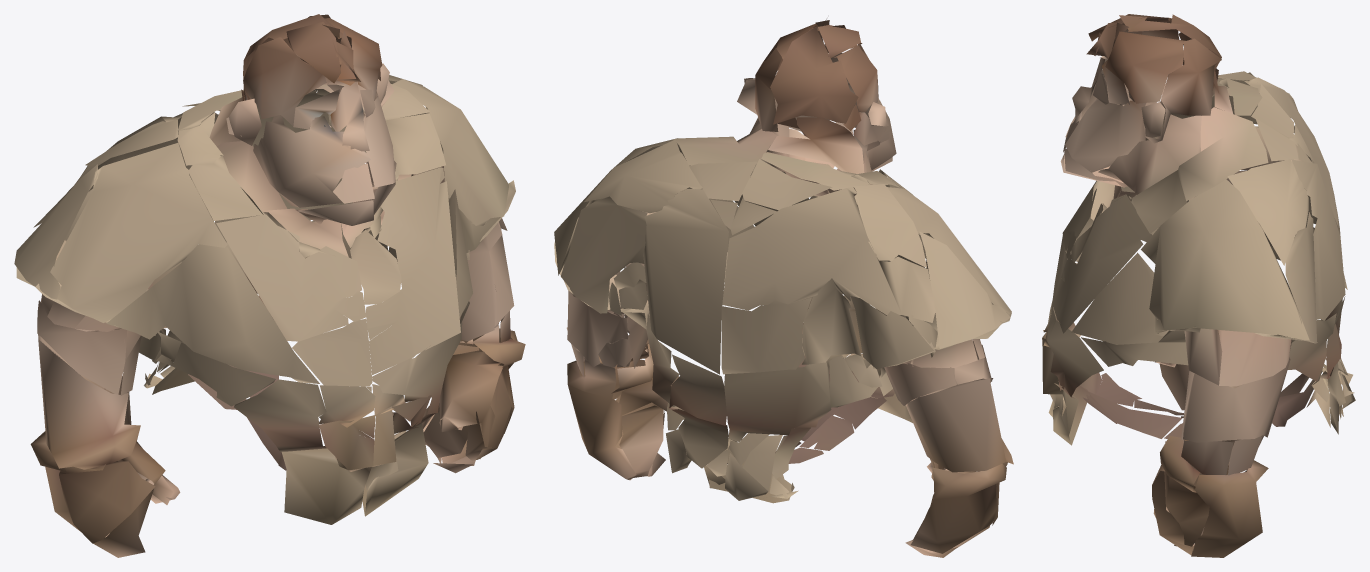
The model's file is villager-body-lo-vc.glb.
3 views of the same model, side by side, from view 1: azimuth 30°, elevation 25°; view 2: azimuth 150°, elevation 25°; view 3: azimuth 270°, elevation 25° (orthographic). The views are drawn at different scales.
Parts seen in each view (by area): view 1: tripo_node_2b2a274c-68c4-4dc1-b889-d5ddfc6dd8be.001; view 2: tripo_node_2b2a274c-68c4-4dc1-b889-d5ddfc6dd8be.001; view 3: tripo_node_2b2a274c-68c4-4dc1-b889-d5ddfc6dd8be.001.
Boxes of the visible parts, bbox=[...] form: tripo_node_2b2a274c-68c4-4dc1-b889-d5ddfc6dd8be.001: bbox=[14, 14, 525, 557]; tripo_node_2b2a274c-68c4-4dc1-b889-d5ddfc6dd8be.001: bbox=[554, 19, 1013, 557]; tripo_node_2b2a274c-68c4-4dc1-b889-d5ddfc6dd8be.001: bbox=[1042, 14, 1355, 557].
Size of the model in its own units: 0.6694 by 0.6856 by 0.413.
